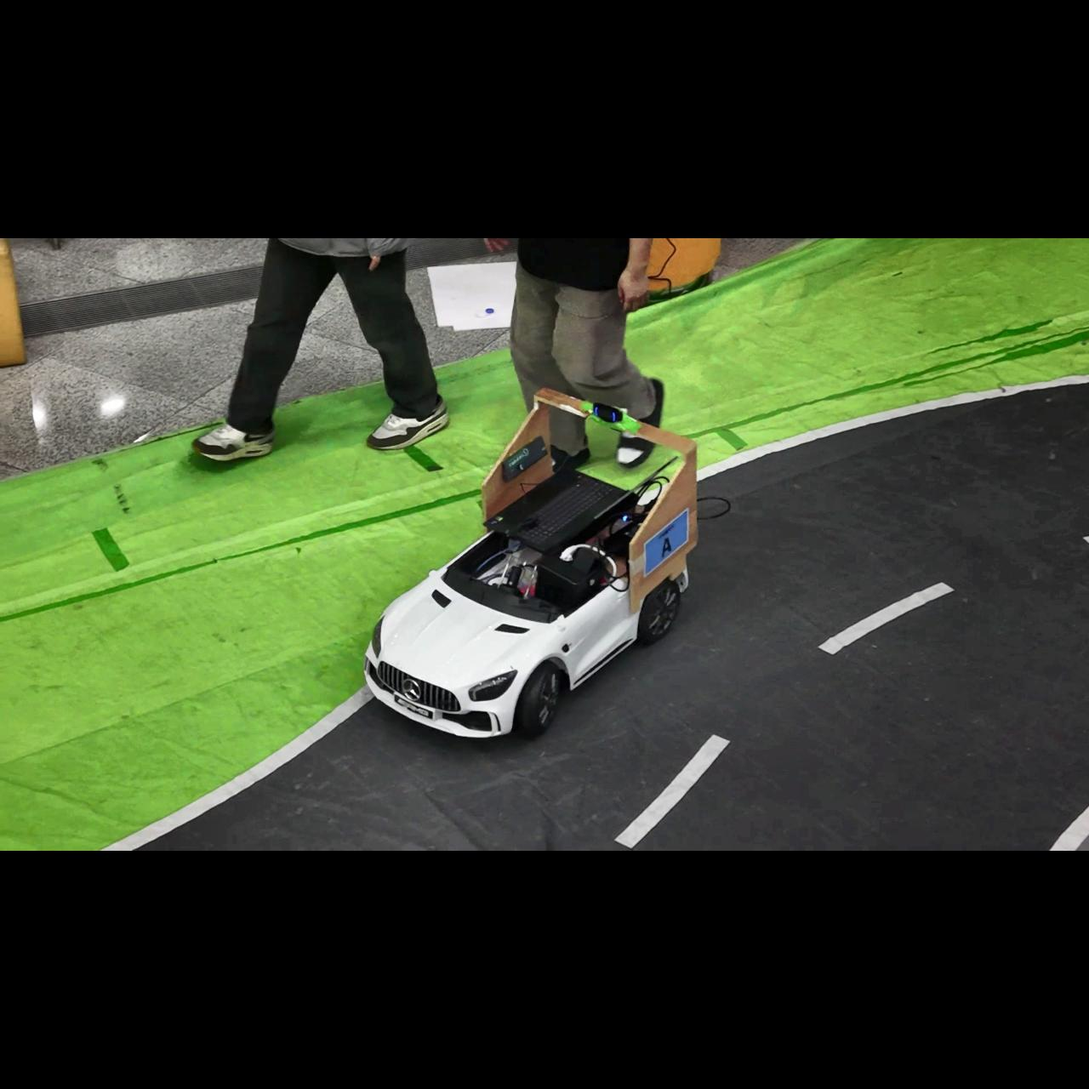broken_line: (615, 735, 729, 848), (820, 583, 953, 654), (1084, 536, 1088, 543)
